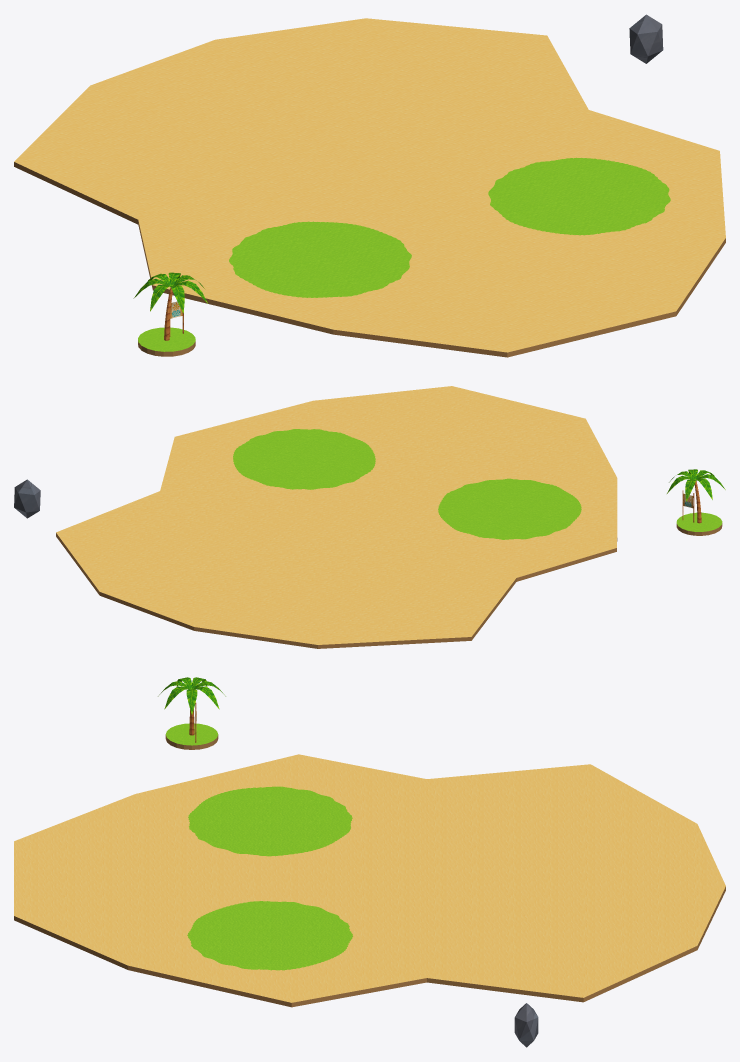
File: surface-27-BmO-10Pg.glb
The picture shows the model from 3 angles, top to bottom: view 1: azimuth 30°, elevation 25°; view 2: azimuth 150°, elevation 25°; view 3: azimuth 270°, elevation 25°; orthographic projection. The views are drawn at different scales.
Parts seen in each view (by area): view 1: HI_Surface_27, FLC_Regions_27, HI_SceneryIslet_0.016, HI_Palm.015, HI_BasaltOutcrop.016; view 2: HI_Surface_27, FLC_Regions_27, HI_SceneryIslet_0.016, HI_Palm.015, HI_BasaltOutcrop.016; view 3: HI_Surface_27, FLC_Regions_27, HI_SceneryIslet_0.016, HI_Palm.015, HI_BasaltOutcrop.016.
Boxes of the visible parts, x1=… form: HI_Surface_27: x1=14, y1=18, x2=725, y2=357; FLC_Regions_27: x1=229, y1=157, x2=670, y2=297; HI_SceneryIslet_0.016: x1=138, y1=327, x2=195, y2=356; HI_Palm.015: x1=133, y1=272, x2=207, y2=340; HI_BasaltOutcrop.016: x1=629, y1=14, x2=663, y2=63; HI_Surface_27: x1=56, y1=386, x2=617, y2=648; FLC_Regions_27: x1=233, y1=429, x2=581, y2=539; HI_SceneryIslet_0.016: x1=676, y1=512, x2=722, y2=535; HI_Palm.015: x1=667, y1=469, x2=725, y2=523; HI_BasaltOutcrop.016: x1=14, y1=479, x2=40, y2=518; HI_Surface_27: x1=14, y1=754, x2=725, y2=1007; FLC_Regions_27: x1=187, y1=786, x2=352, y2=970; HI_SceneryIslet_0.016: x1=165, y1=723, x2=218, y2=749; HI_Palm.015: x1=158, y1=677, x2=225, y2=735; HI_BasaltOutcrop.016: x1=514, y1=1003, x2=538, y2=1047.
Size of the model in its own units: 47.61 by 5.15 by 46.
Materials: 7 (6 with a texture image).
